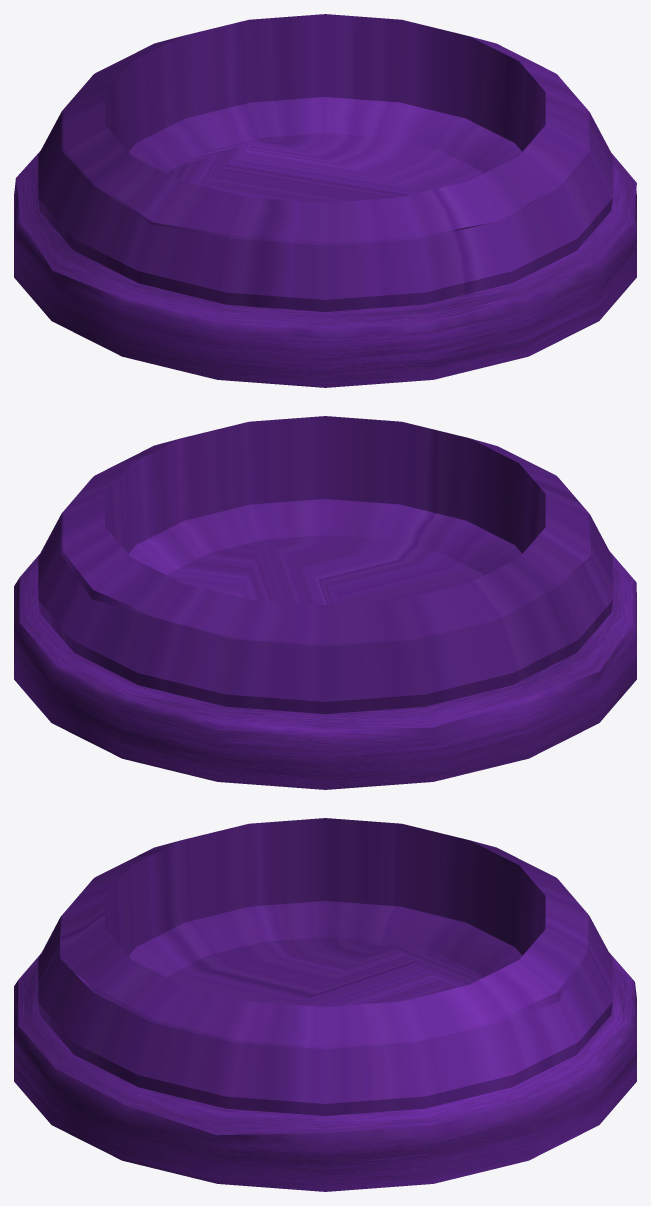
The model's file is Comedero.FBX.
The picture shows the model from 3 angles, top to bottom: view 1: azimuth 30°, elevation 25°; view 2: azimuth 150°, elevation 25°; view 3: azimuth 270°, elevation 25°; orthographic projection.
Parts seen in each view (by area): view 1: Cylinder001; view 2: Cylinder001; view 3: Cylinder001.
Boxes of the visible parts, x1,y1,x2,y2 form: Cylinder001: (14, 14, 636, 387); Cylinder001: (14, 416, 636, 789); Cylinder001: (14, 818, 636, 1191).
Size of the model in its own units: 61.52 by 15.64 by 60.59.
1 material, 1 textured.
